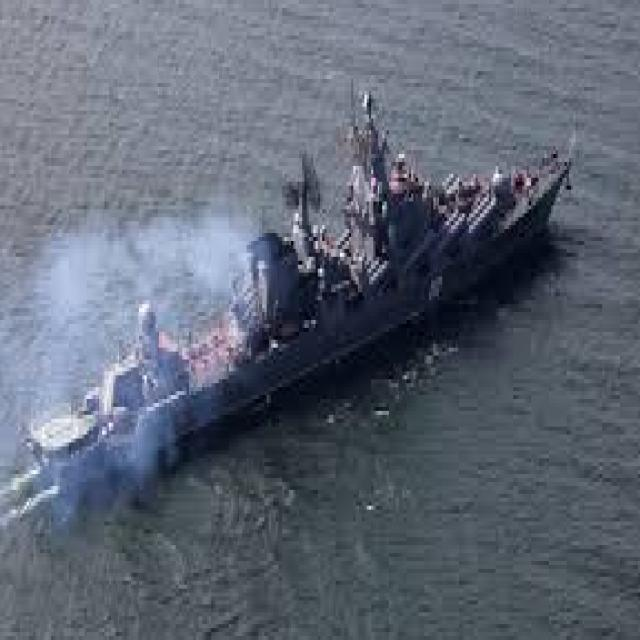navalvessels: (8, 99, 582, 510)
